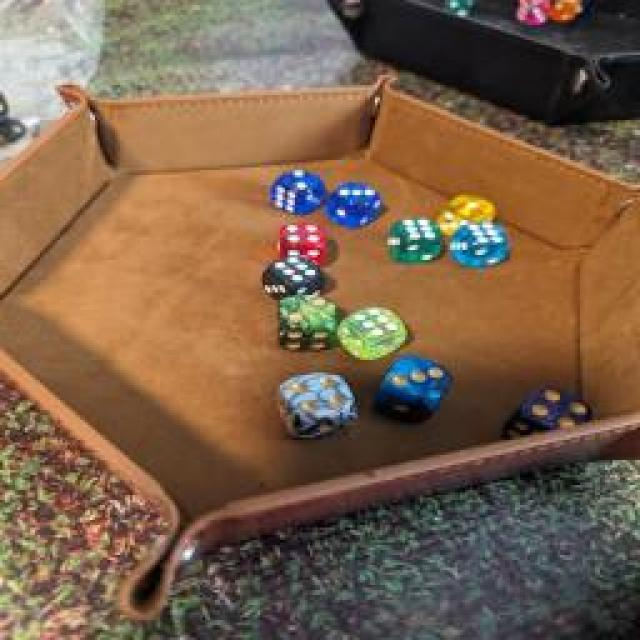dice_1: (435, 191, 495, 234)
dice_2: (275, 290, 340, 355), (262, 166, 320, 214)
dice_3: (366, 354, 454, 426), (327, 181, 385, 229)
dice_4: (494, 382, 594, 448), (272, 370, 358, 442), (274, 223, 331, 265)
dice_6: (335, 301, 413, 364), (258, 255, 330, 303), (448, 219, 514, 271), (383, 212, 445, 262)
